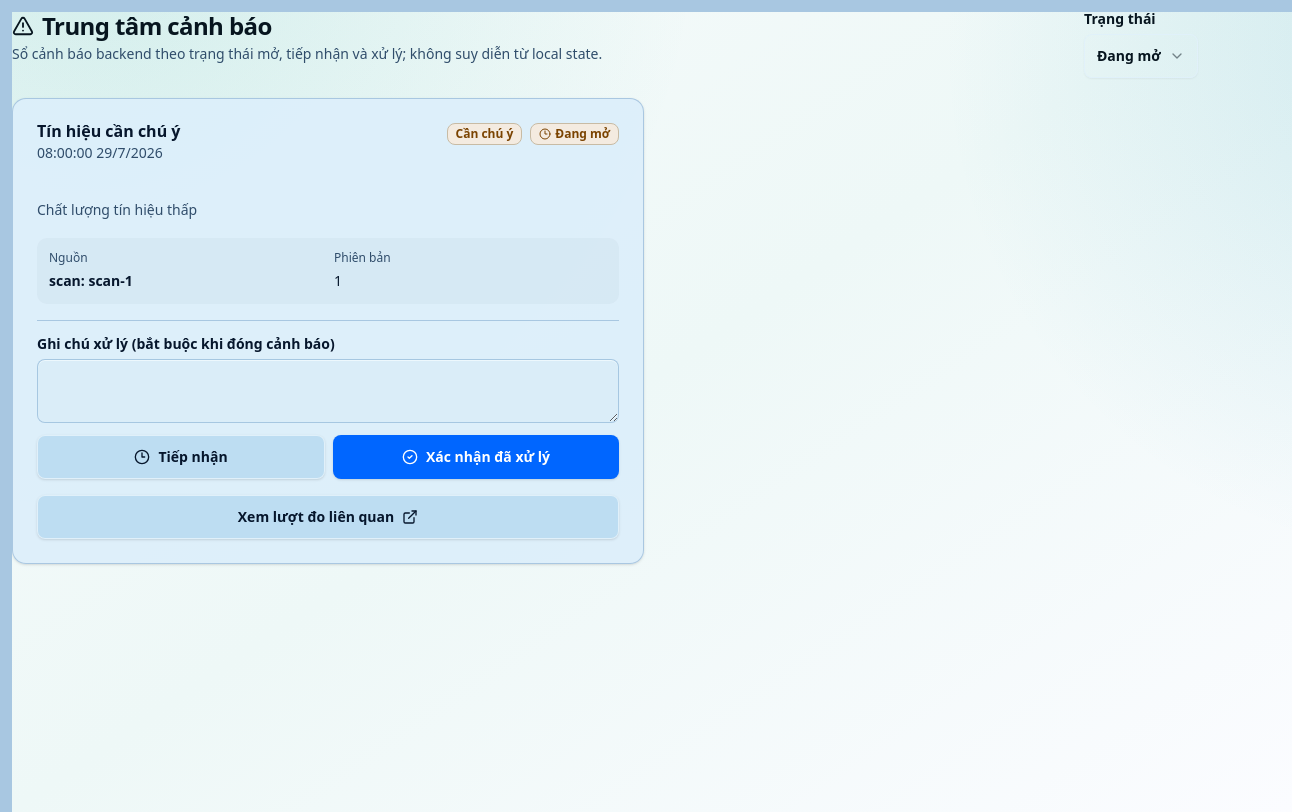
Test: clinical workflow pages › does not publish alert success for a mismatched receipt
Click the button "Tiếp nhận" at (181, 457), box left=37, top=435, right=325, bottom=479
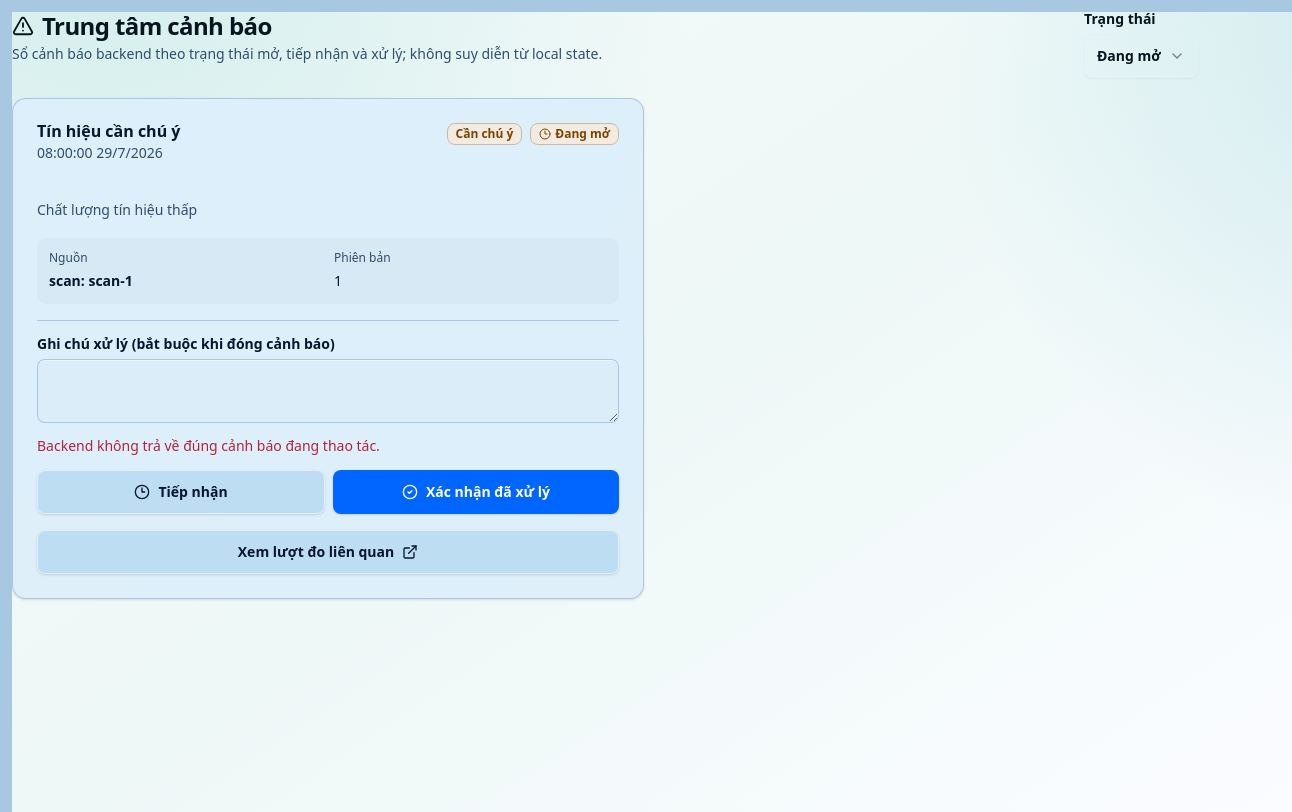
Now the text "Backend không trả về đúng cảnh báo đang thao tác." is shown, box left=37, top=436, right=380, bottom=455
